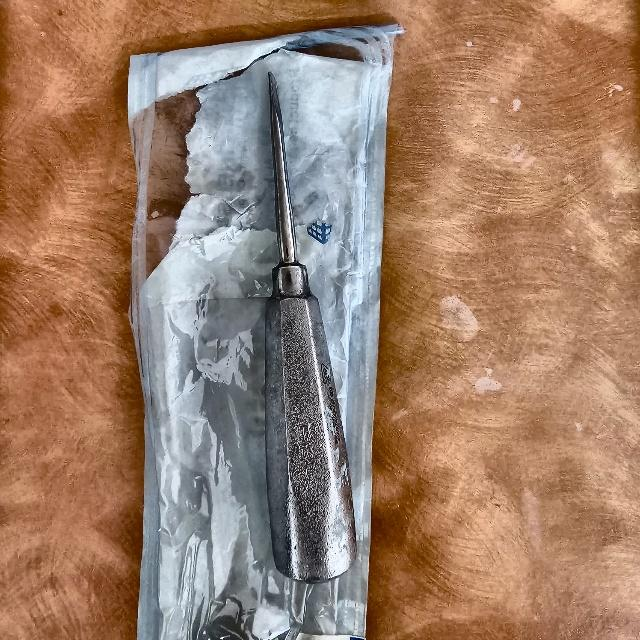botador: (265, 72, 356, 586)
